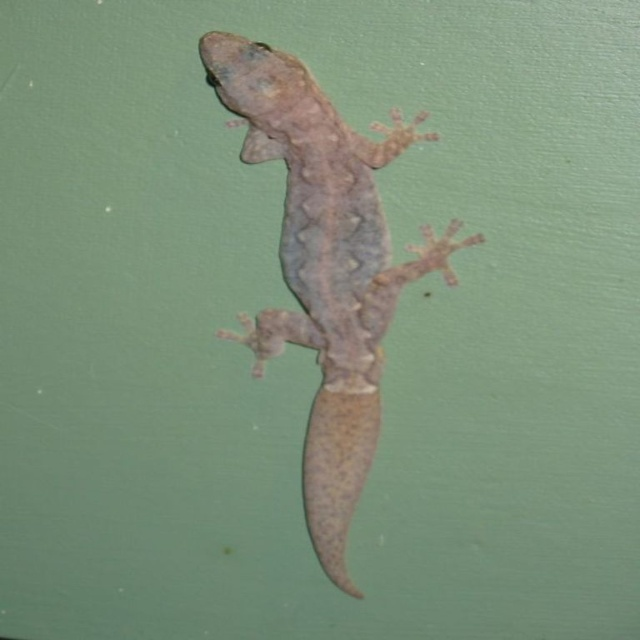Lizard: (195, 0, 477, 588)
